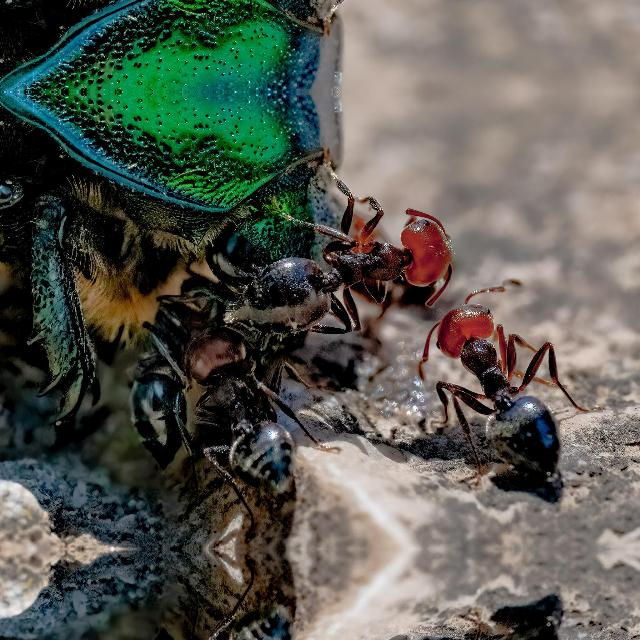Crematogaster: (230, 204, 476, 332), (444, 292, 586, 476), (124, 275, 216, 455), (200, 341, 292, 495), (199, 601, 292, 640)
